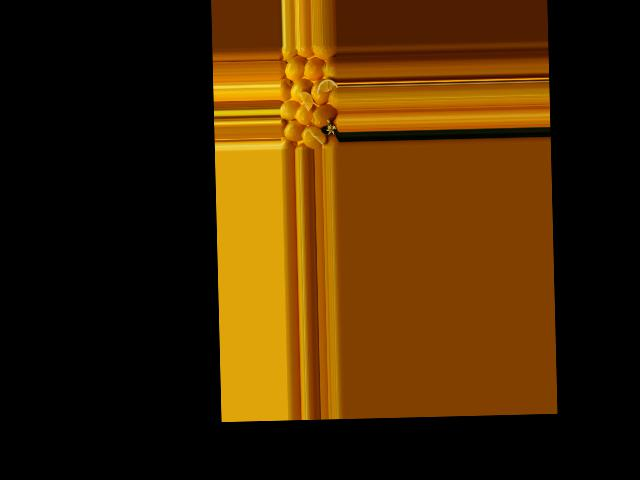lemon: (318, 57, 338, 80)
